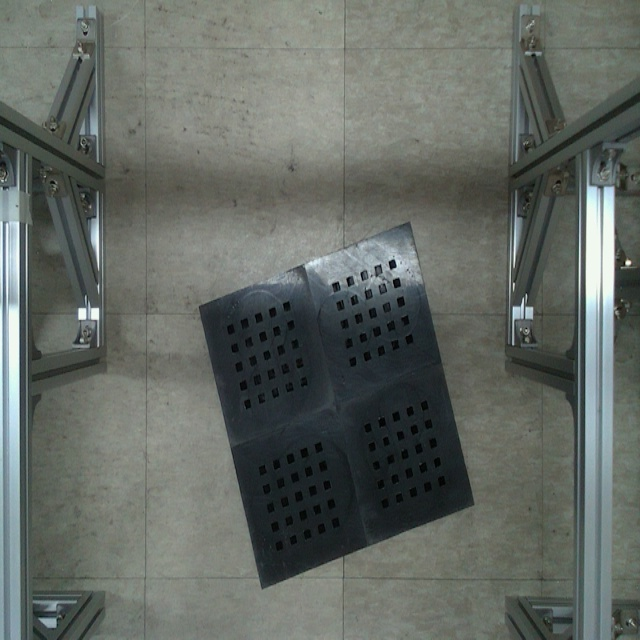pallet: (193, 216, 479, 594)
